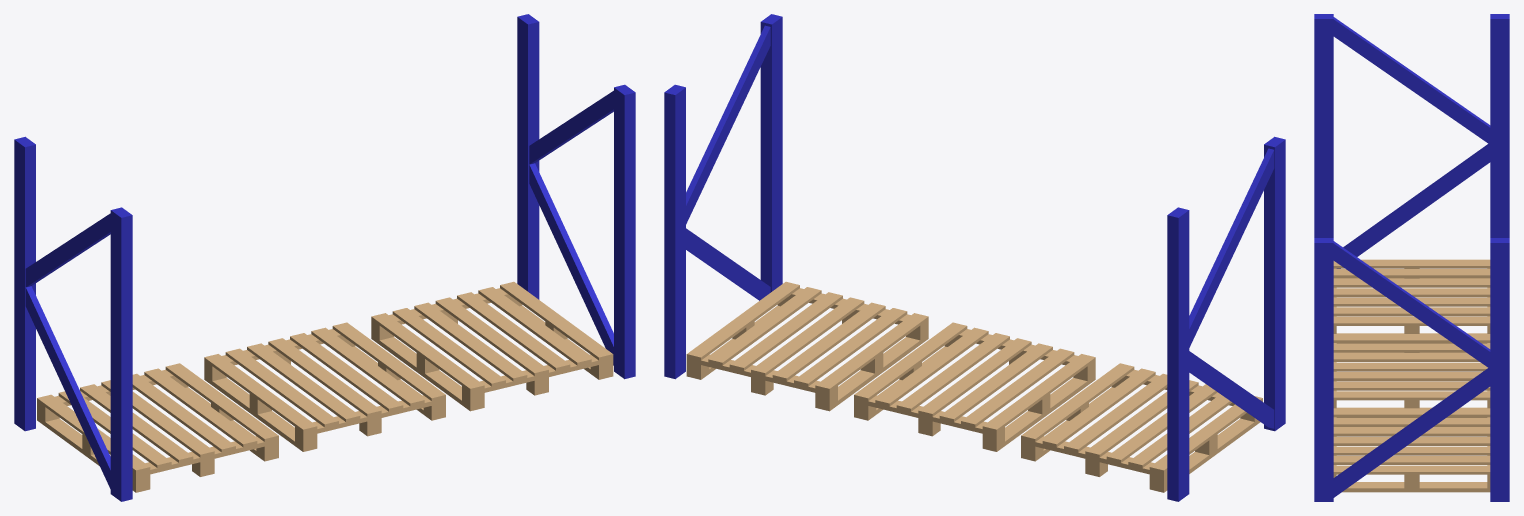
Rendered from Longarina_Separado_3pallets_chão_pronto.glb.
3 views of the same model, side by side, from view 1: azimuth 30°, elevation 25°; view 2: azimuth 150°, elevation 25°; view 3: azimuth 270°, elevation 25° (orthographic). The views are drawn at different scales.
Parts seen in each view (by area): view 1: Barras_Laterais, Cube.006, Cube.002, Cube.005, Cube, Cube.003, Cube.001, Cube.004; view 2: Barras_Laterais, Cube.006, Cube.002, Cube.005, Cube.004, Cube.001, Cube, Cube.003, Cube.007; view 3: Barras_Laterais, Cube.006, Cube.002, Cube.005, Cube.003, Cube.004, Cube.001, Cube, Cube.007.
Boxes of the visible parts, left/top/right/bottom form: Barras_Laterais: left=14, top=14, right=635, bottom=501; Cube.006: left=371, top=281, right=613, bottom=411; Cube.002: left=204, top=322, right=445, bottom=451; Cube.005: left=37, top=363, right=278, bottom=492; Cube: left=25, top=286, right=110, bottom=488; Cube.003: left=529, top=163, right=613, bottom=365; Cube.001: left=25, top=213, right=110, bottom=287; Cube.004: left=529, top=90, right=613, bottom=164; Barras_Laterais: left=664, top=14, right=1285, bottom=501; Cube.006: left=686, top=281, right=928, bottom=411; Cube.002: left=854, top=322, right=1095, bottom=451; Cube.005: left=1021, top=363, right=1262, bottom=492; Cube.004: left=686, top=25, right=770, bottom=224; Cube.001: left=1189, top=149, right=1274, bottom=347; Cube: left=1189, top=351, right=1274, bottom=428; Cube.003: left=686, top=228, right=770, bottom=300; Cube.007: left=1189, top=148, right=1274, bottom=335; Barras_Laterais: left=1314, top=14, right=1509, bottom=501; Cube.006: left=1333, top=408, right=1490, bottom=492; Cube.002: left=1333, top=334, right=1490, bottom=417; Cube.005: left=1333, top=259, right=1490, bottom=343; Cube.003: left=1333, top=368, right=1490, bottom=497; Cube.004: left=1333, top=241, right=1490, bottom=368; Cube.001: left=1333, top=19, right=1490, bottom=144; Cube: left=1337, top=144, right=1490, bottom=268; Cube.007: left=1333, top=17, right=1490, bottom=143.
Size of the model in its own units: 3.6 by 1.9 by 1.3.
